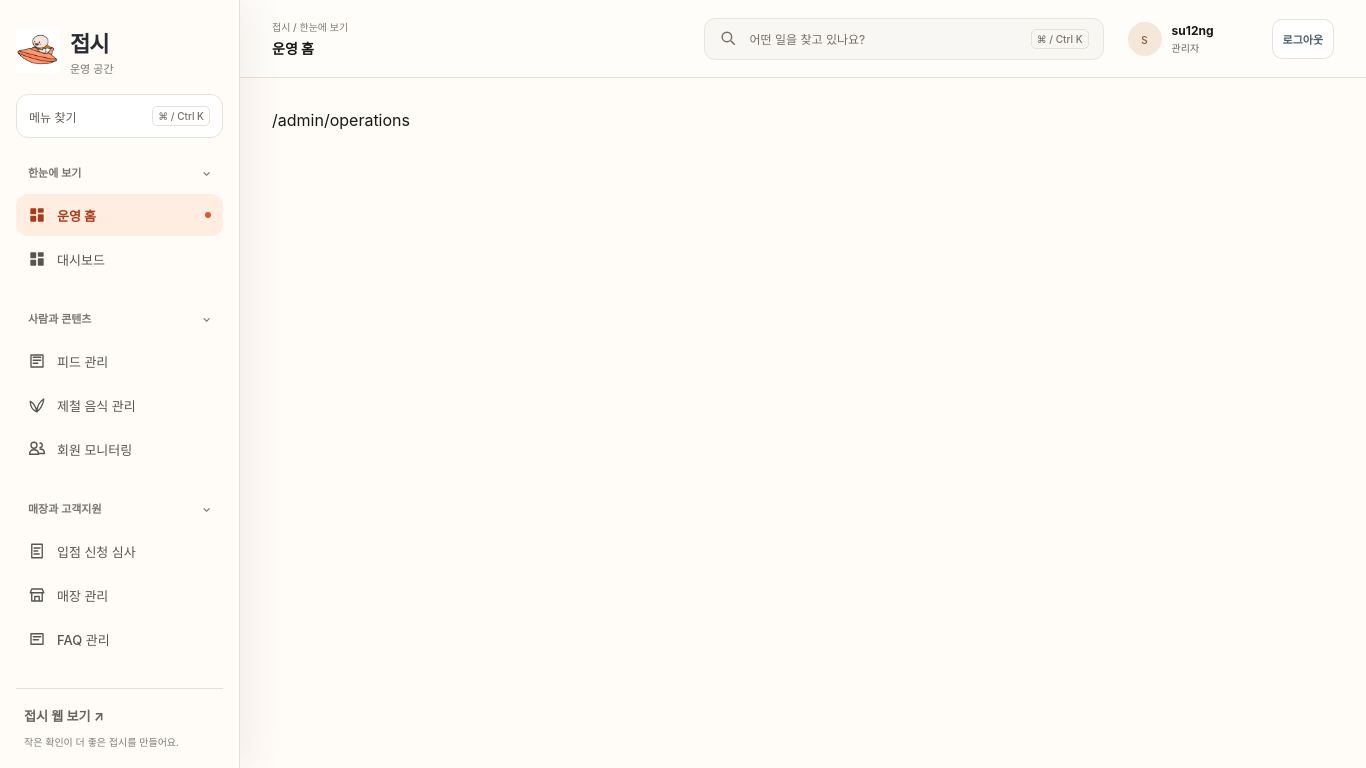
Scenario: task search navigates to content management rather than the old store-only search
Click the button with aria-label "메뉴 찾기" at (807, 40), box top-left (704, 18), bottom-right (1104, 60)
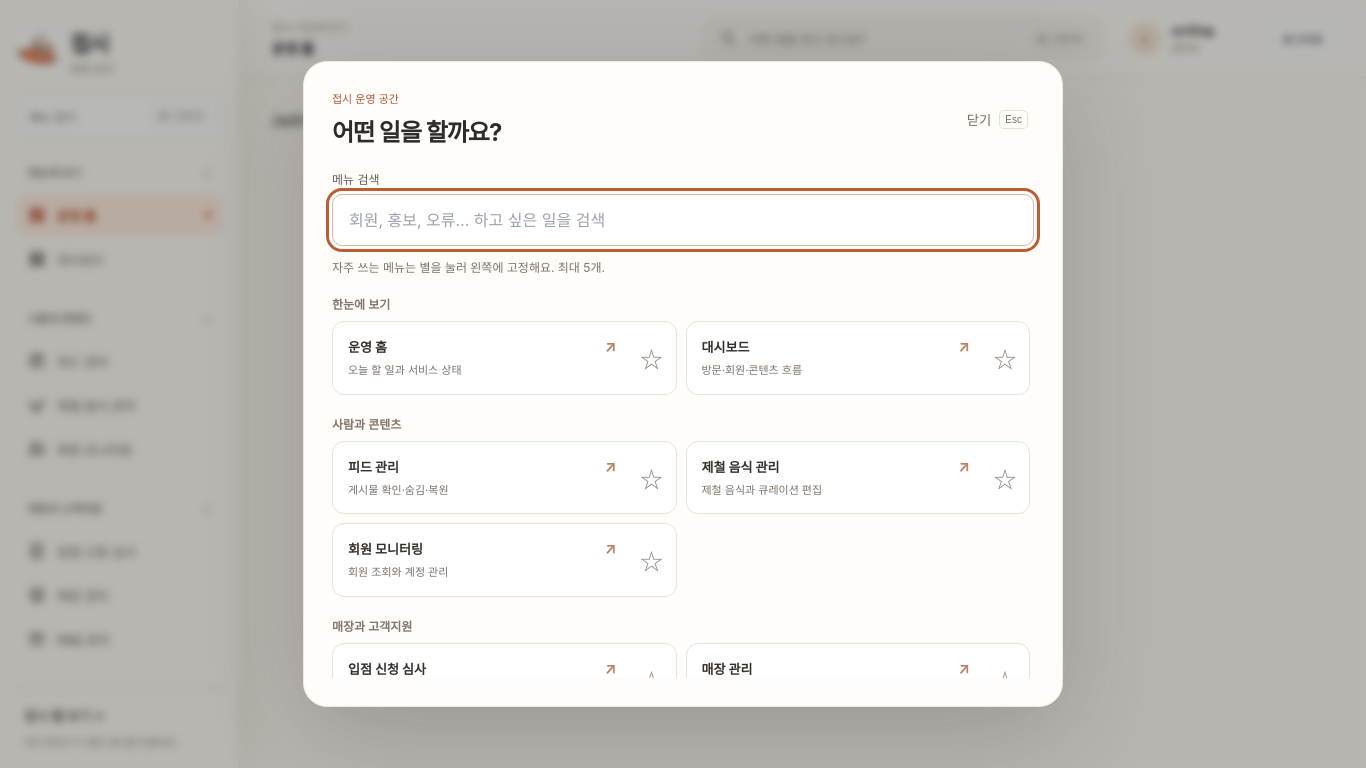
Type "콘텐츠" into the search field labelled "메뉴 검색" at (683, 220), box top-left (332, 194), bottom-right (1034, 246)
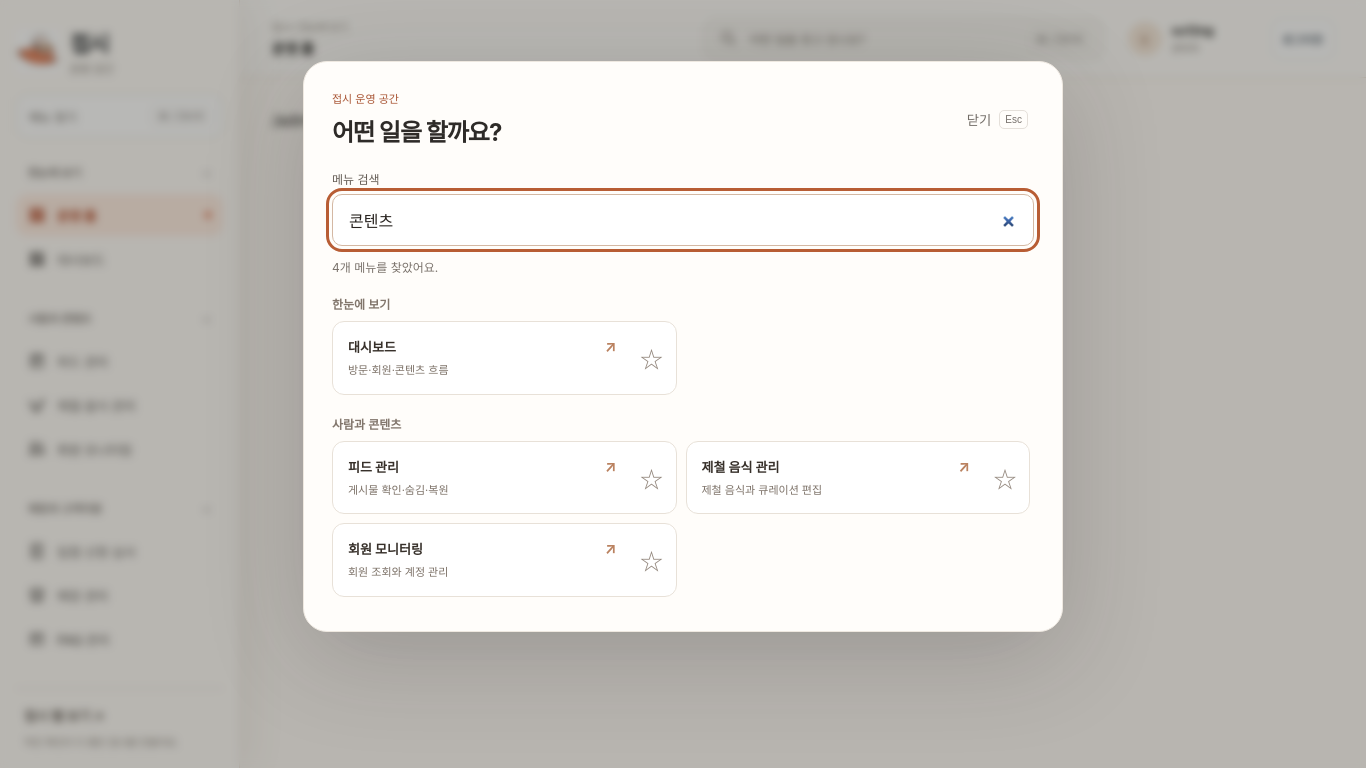
Click the link "피드 관리 ↗ 게시물 확인·숨김·복원" at (373, 467), box top-left (348, 457), bottom-right (616, 497)
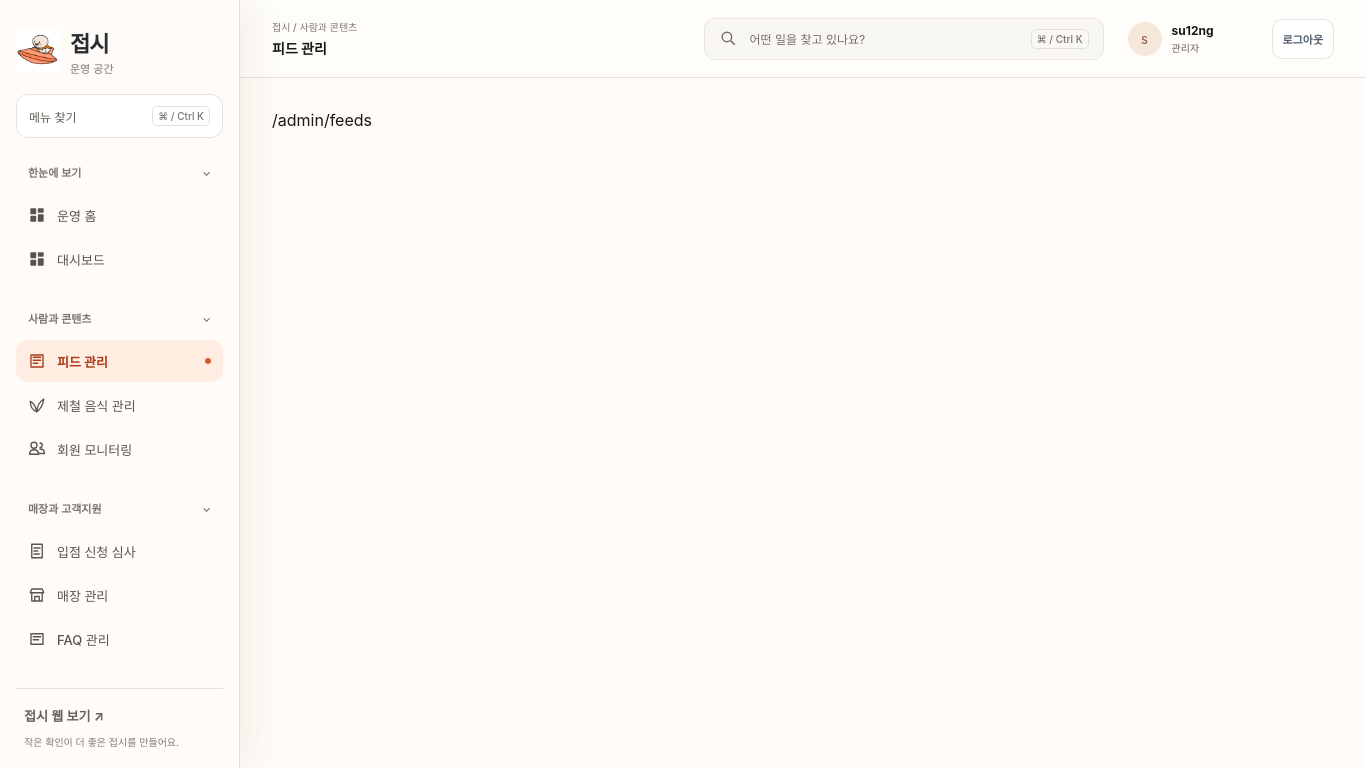
expect the text named "현재 경로" reads "/admin/feeds": met, box top-left (272, 110), bottom-right (372, 130)
expect the dialog is gone: met
